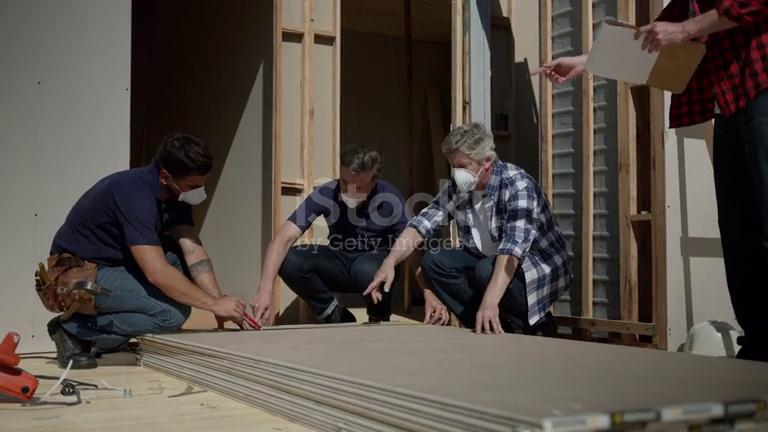helmet: (683, 319, 744, 358)
mask: (339, 191, 367, 214), (452, 168, 478, 192), (178, 186, 207, 206)
person: (536, 1, 768, 363), (46, 133, 258, 371), (362, 120, 573, 336), (249, 146, 448, 324)
